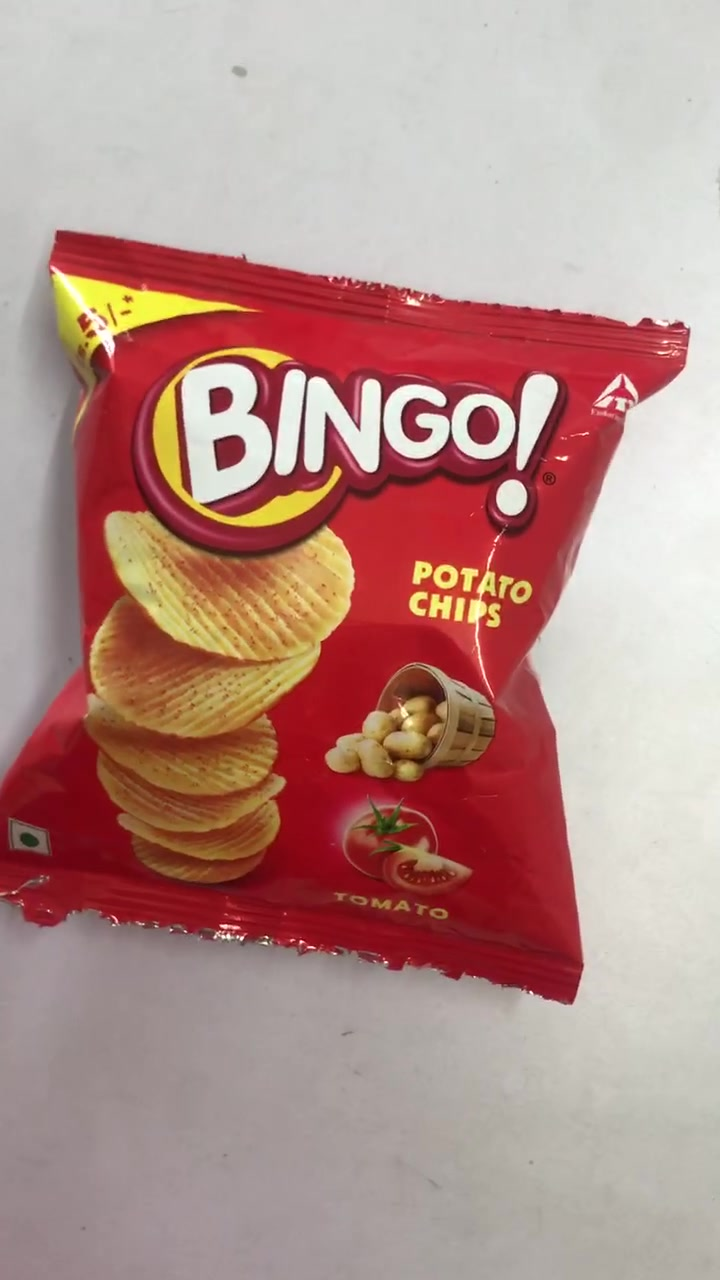Bingo: (10, 235, 691, 998)
